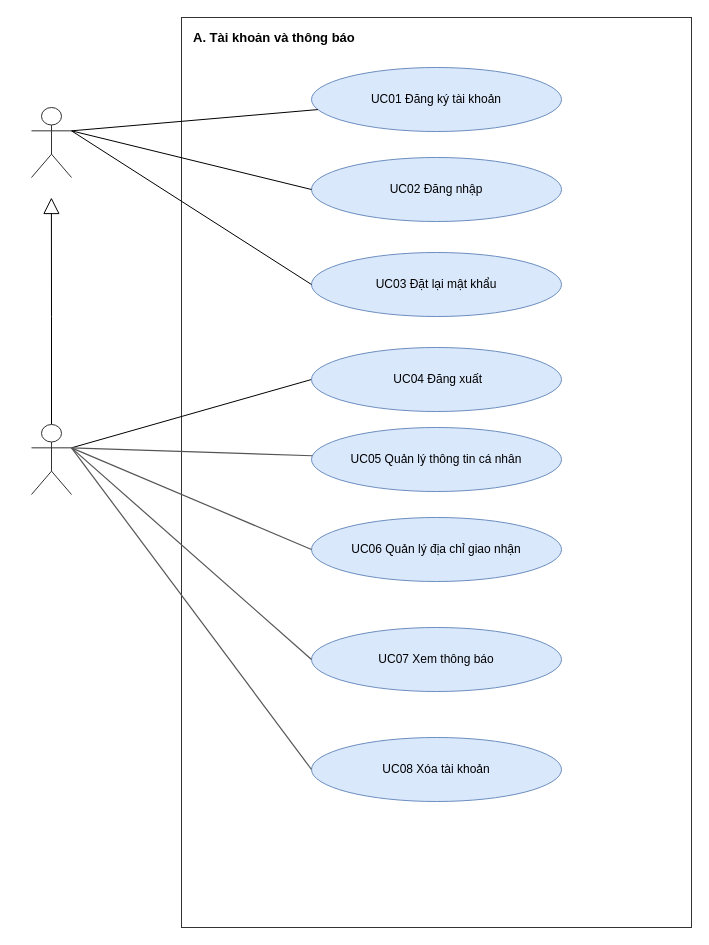
This 709x945 diagram has some shape labels left out. Each missing label, with the centre of its shape:
"Khách" belongs at point 51,142.
"Người dùng" belongs at point 51,459.
